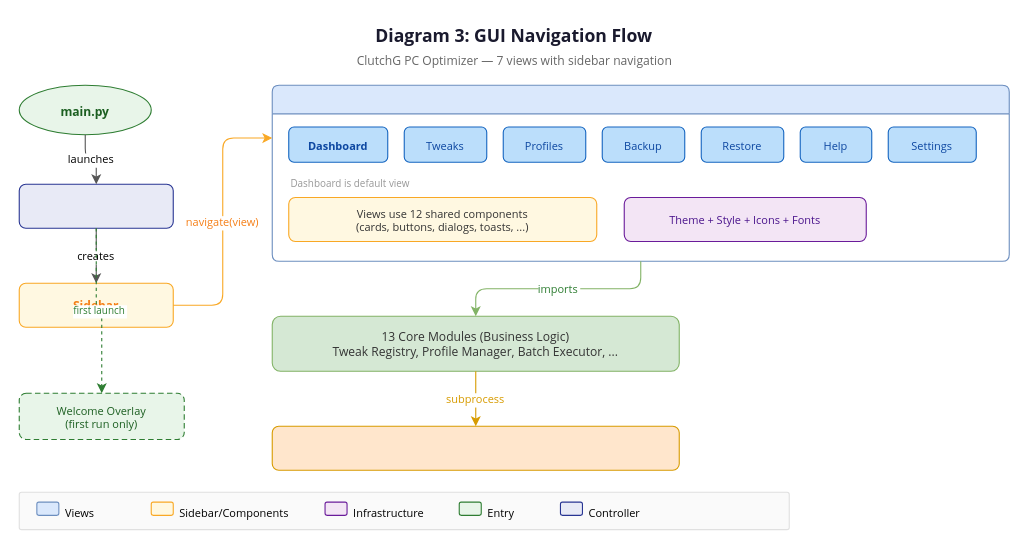
The diagram is 1029 pixels wide and 549 high, and some of its shapes have lost their labels. Here are the shapes that lost their labels. From the top down, the box of each, then its label:
(271, 84, 1009, 261): 7 Views
(18, 183, 173, 228): App Controller
(271, 425, 679, 470): Batch Engine (src/)
